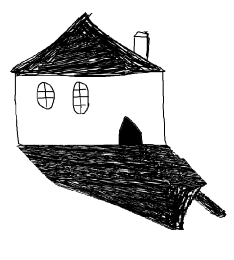chimney: (130, 27, 157, 63)
closed_window: (66, 81, 105, 117), (28, 75, 64, 110)
door: (113, 109, 147, 147)
shaded_roof: (2, 6, 174, 81)
shadow: (18, 144, 225, 232)
wall: (11, 71, 170, 147)
